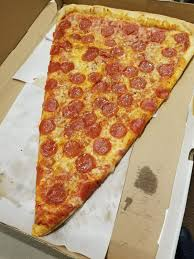pizza: (28, 6, 193, 246)
